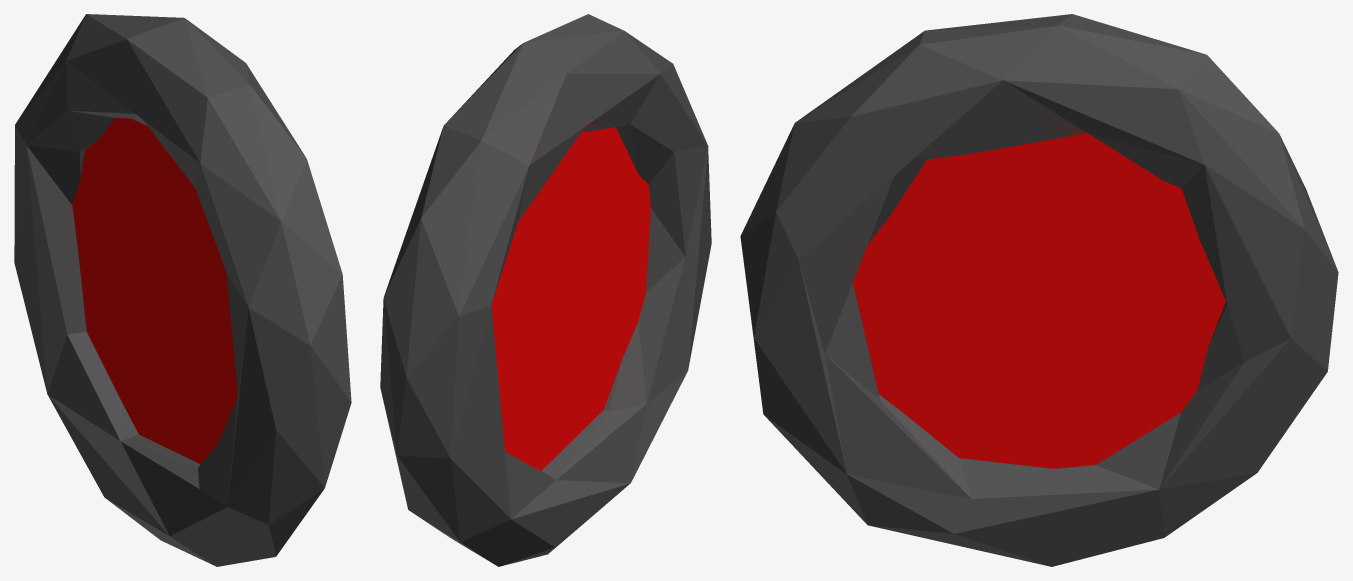
File: portal.obj
3 renders of one model, left to right at view 1: azimuth 30°, elevation 25°; view 2: azimuth 150°, elevation 25°; view 3: azimuth 270°, elevation 25°, orthographic. The views are drawn at different scales.
Visible parts, largest first — view 1: Torus; view 2: Torus; view 3: Torus.
Part boxes in pixels (<box>): Torus: <box>14,14,351,566</box>; Torus: <box>380,14,711,566</box>; Torus: <box>740,14,1338,566</box>.
Bounding box in the file's own units: 0.5015 × 2.51 × 2.5.
